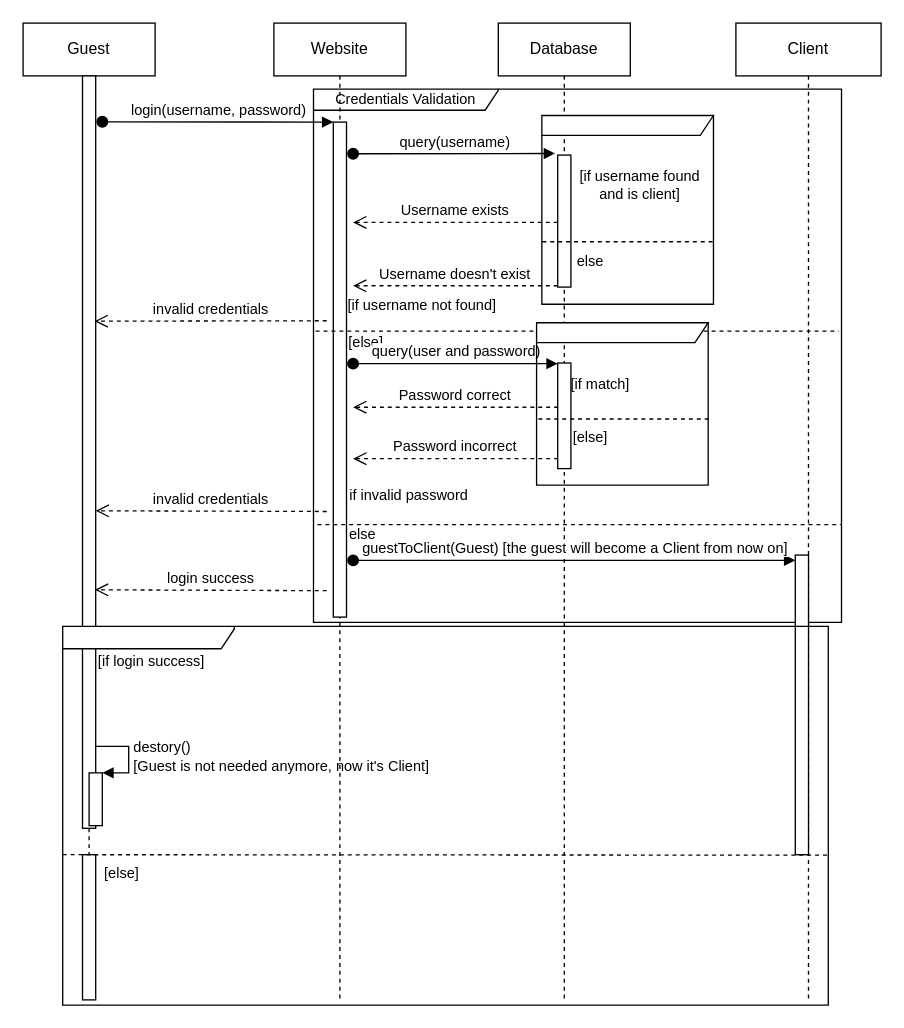
Image size: 904x1028. Some labels were removed from this diagram. Here are the shapes that lost their labels. From the top down, the centre of each, then its label:
point 627,209: Username Validation
point 621,403: Password Validation
point 444,815: Log in completion
